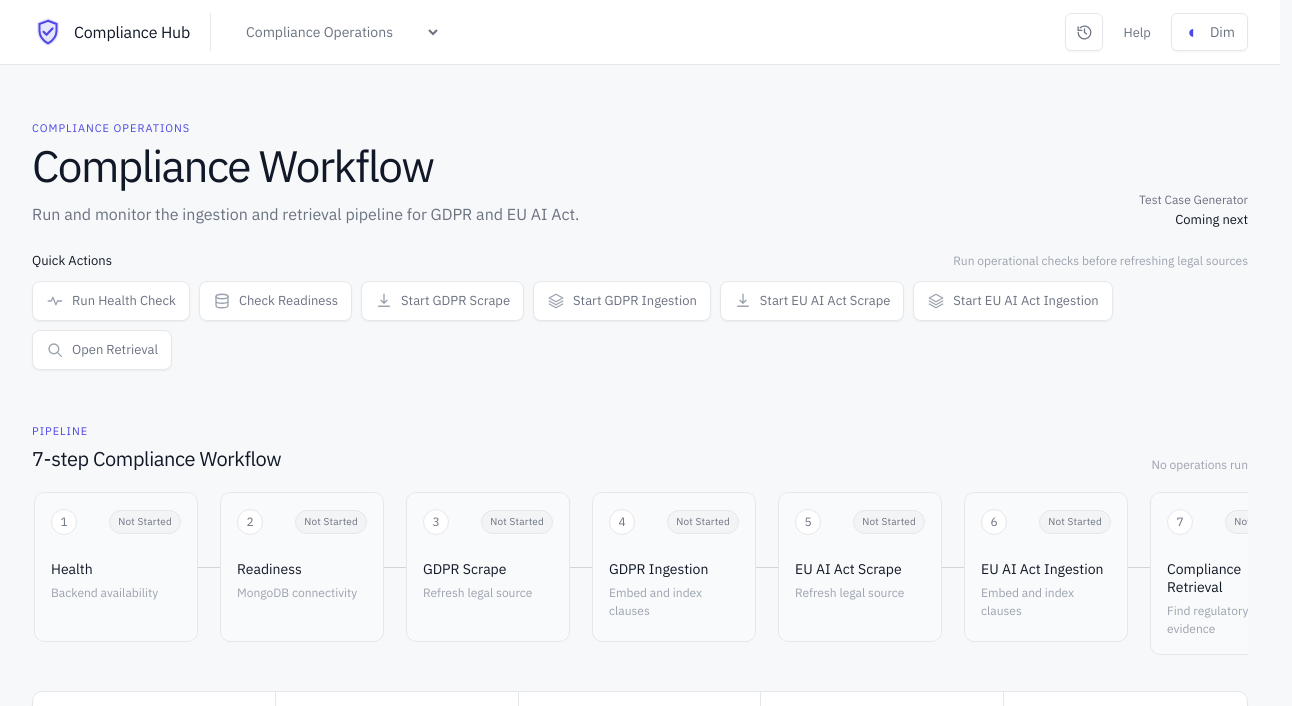
Test: compliance retrieval UI › ignores rapid duplicate retrieval submissions while one request is active
The width and height of the screenshot is (1292, 706).
Click the button "Open Retrieval" at (102, 350), box [32, 330, 172, 370]
(page scrolled)
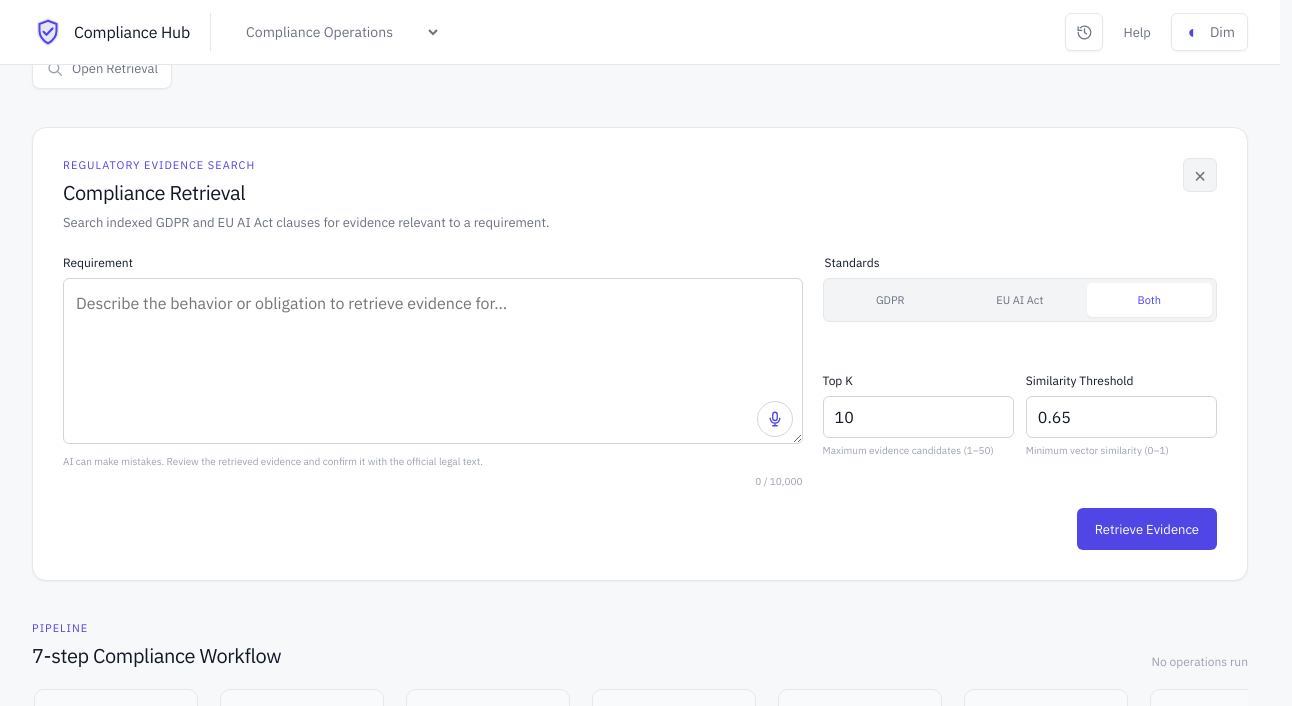
Replace the text in the text box labelled "Requirement" with "A reviewed compliance requirement." at (433, 361), box [63, 278, 803, 444]
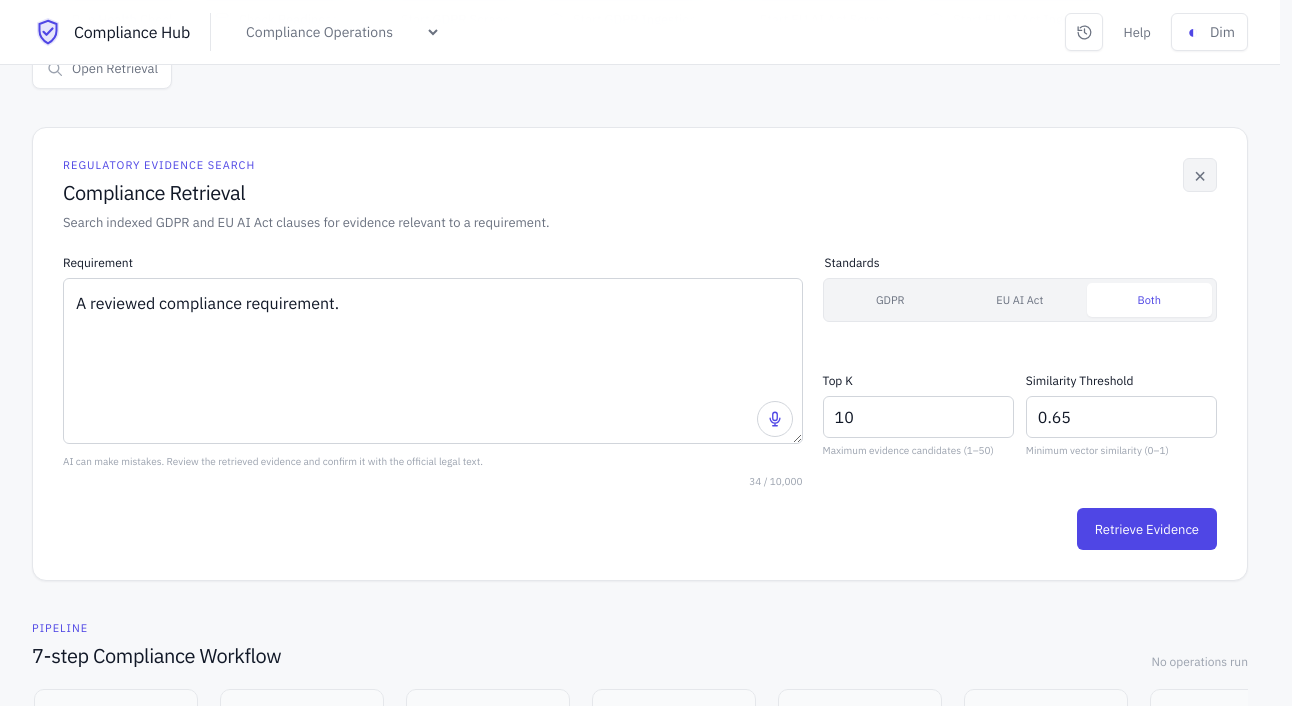
Submit the form named "Retrieve Evidence", box [63, 255, 1217, 550]
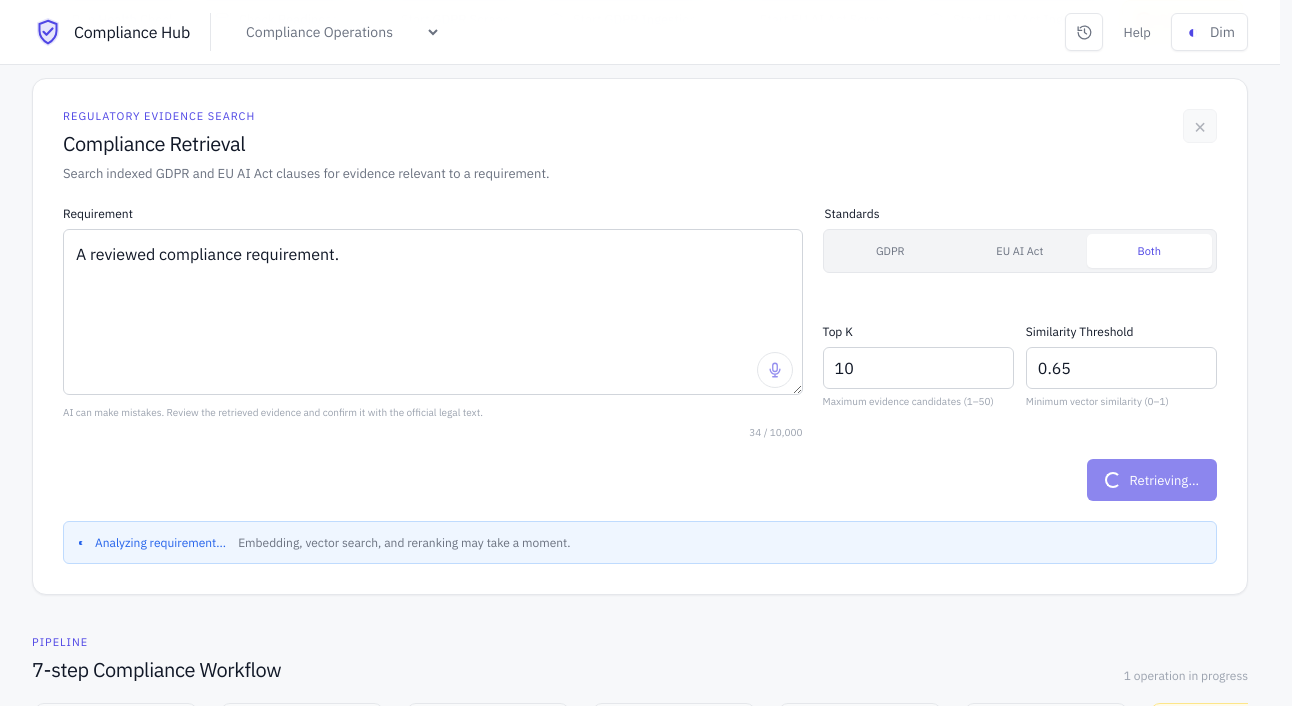
Submit the form named "Retrieve Evidence", box [63, 206, 1217, 502]
(page scrolled)
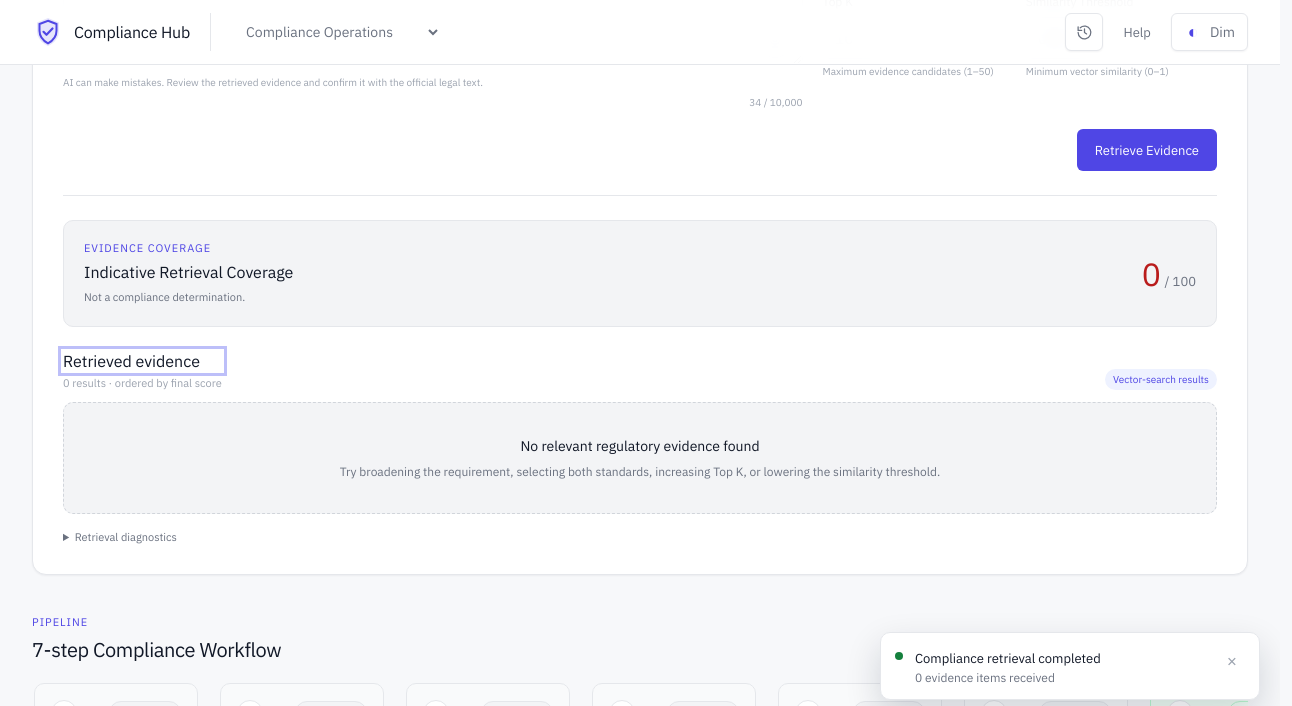
Now the text "No relevant regulatory evidence found" is shown, box [520, 437, 760, 455]
